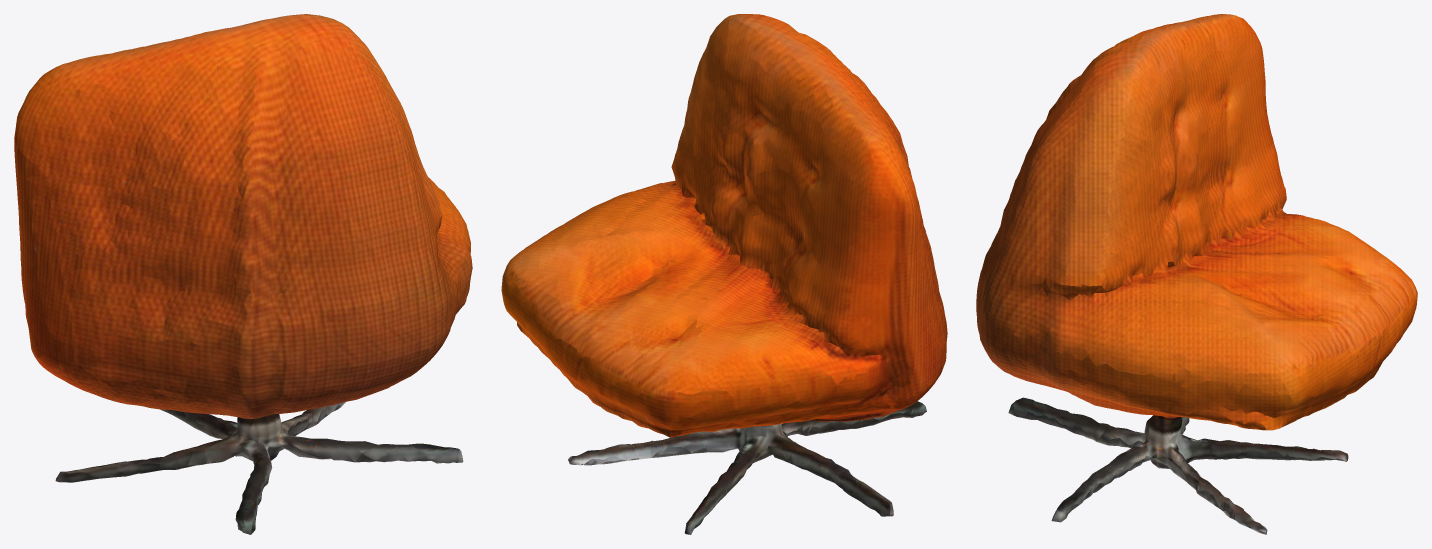
The model's file is 3d-orangechair-1.glb.
The picture shows the model from 3 angles, left to right: view 1: azimuth 30°, elevation 25°; view 2: azimuth 150°, elevation 25°; view 3: azimuth 270°, elevation 25°; orthographic projection. The views are drawn at different scales.
Parts seen in each view (by area): view 1: world; view 2: world; view 3: world.
Boxes of the visible parts, x1,y1,x2,y2 form: world: [14, 14, 472, 534]; world: [501, 14, 947, 534]; world: [976, 14, 1417, 534].
Size of the model in its own units: 0.8521 by 0.889 by 0.8394.
1 material, 1 textured.
